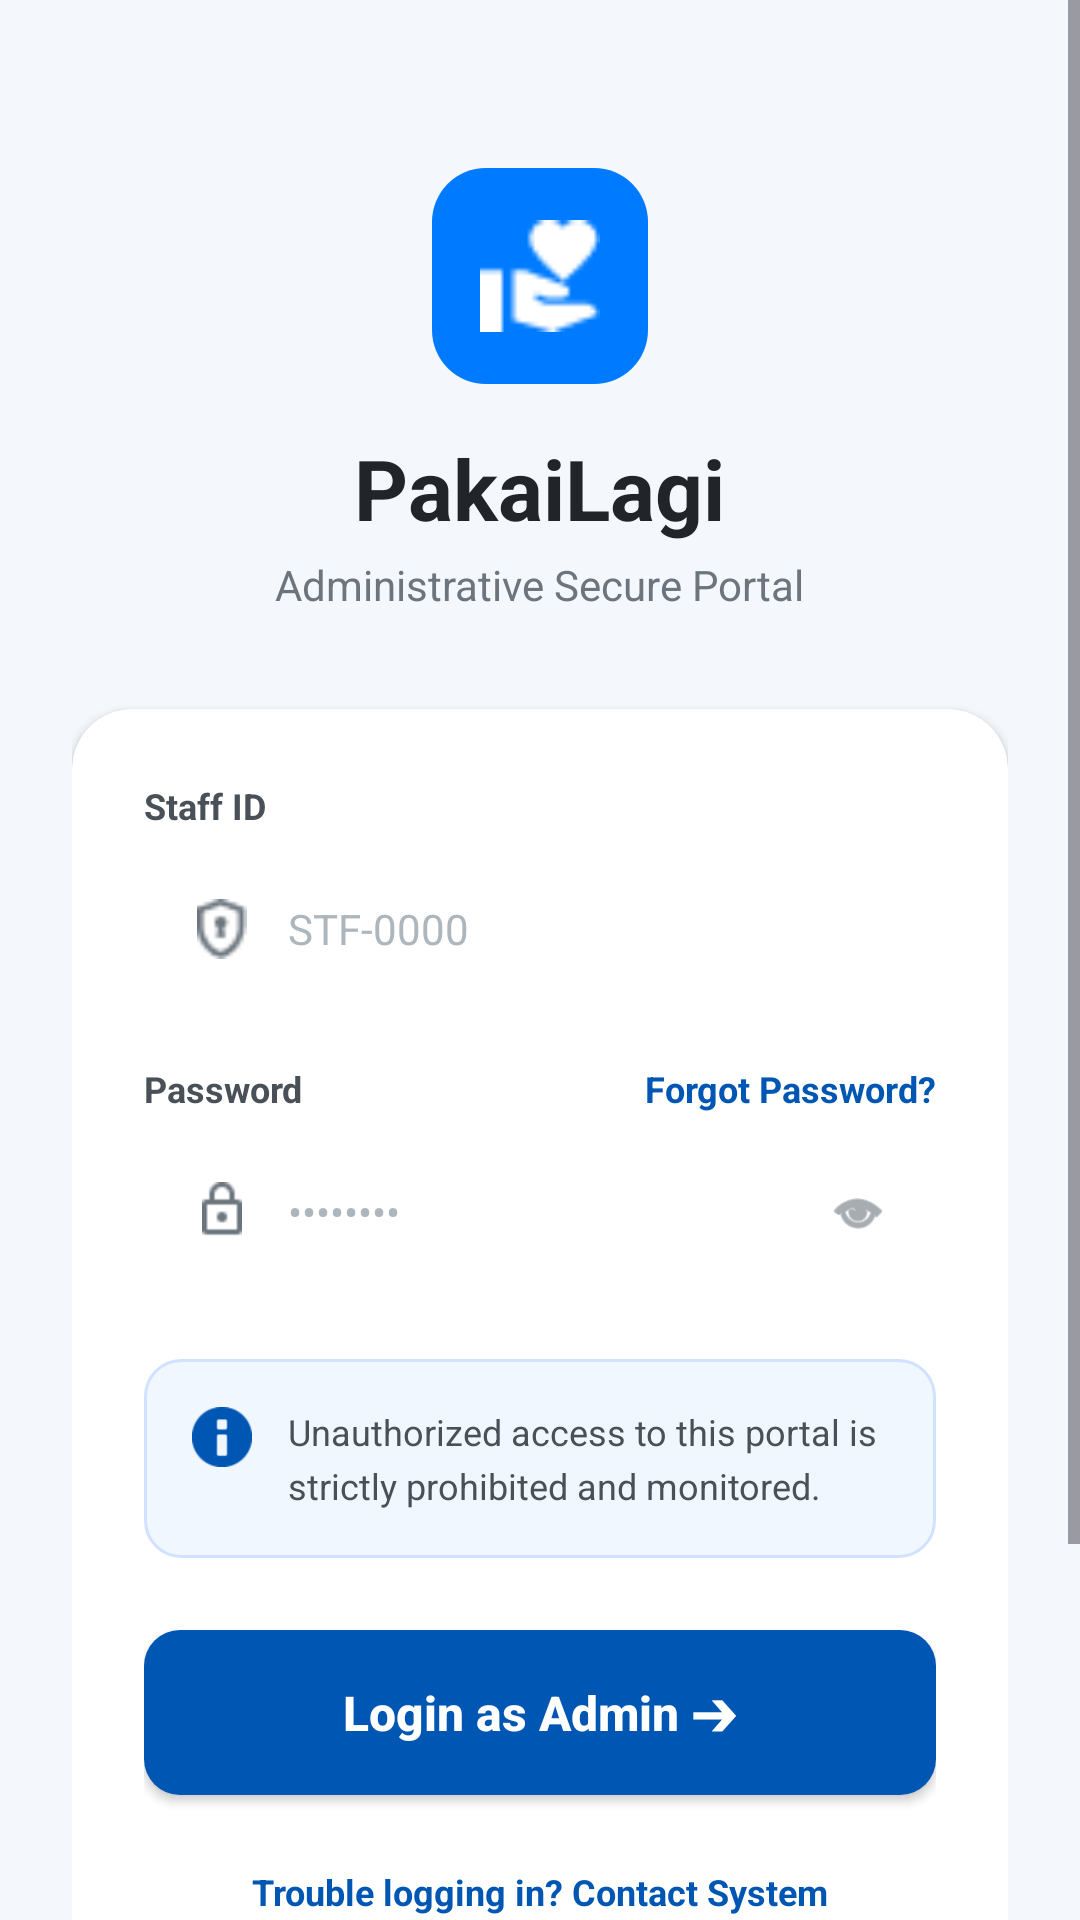

Screen size 1080 × 1920. Icon name, then its center in pixels as (x,y):
badge: (222,929)
info: (222,1437)
lock: (222,1208)
view: (858,1213)
